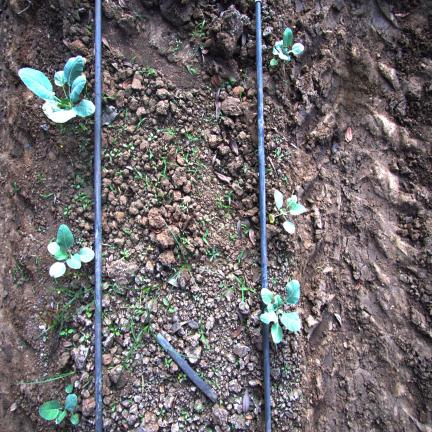crop: (18, 56, 95, 123), (260, 279, 301, 344), (47, 225, 95, 269), (39, 384, 77, 425), (274, 190, 306, 234), (273, 27, 304, 62), (50, 262, 65, 278), (71, 413, 79, 425), (270, 58, 278, 66)
